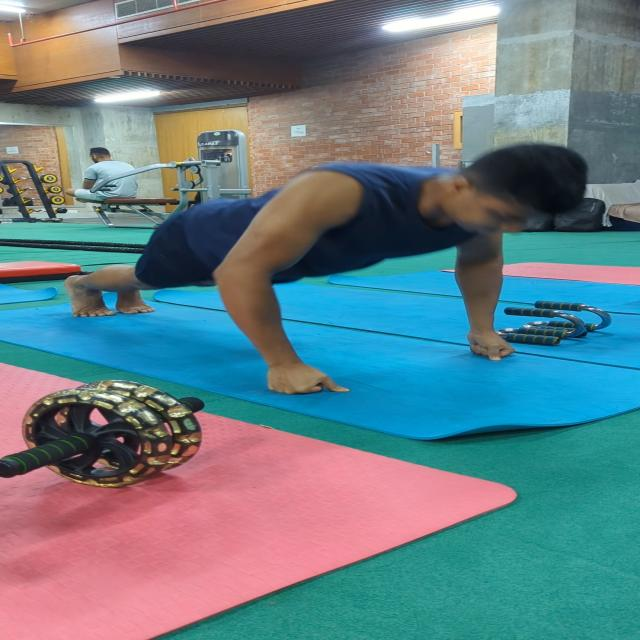Normal_PushUps: (56, 132, 587, 400)
